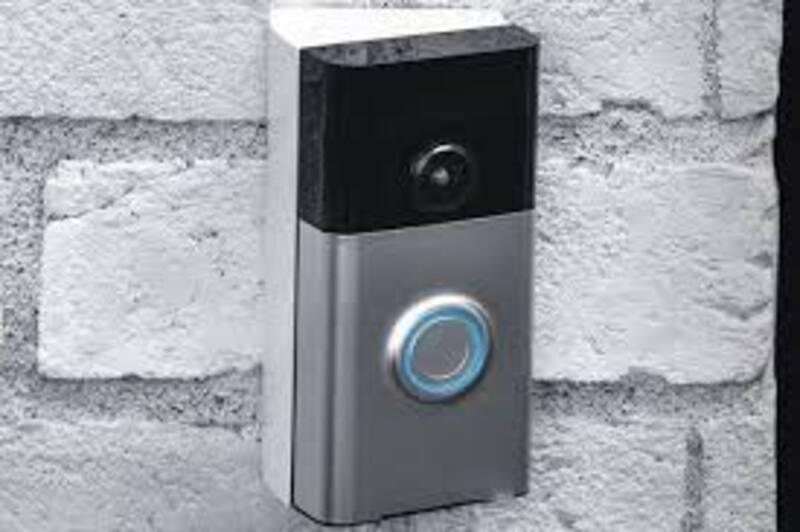doorbell: (284, 12, 542, 514)
